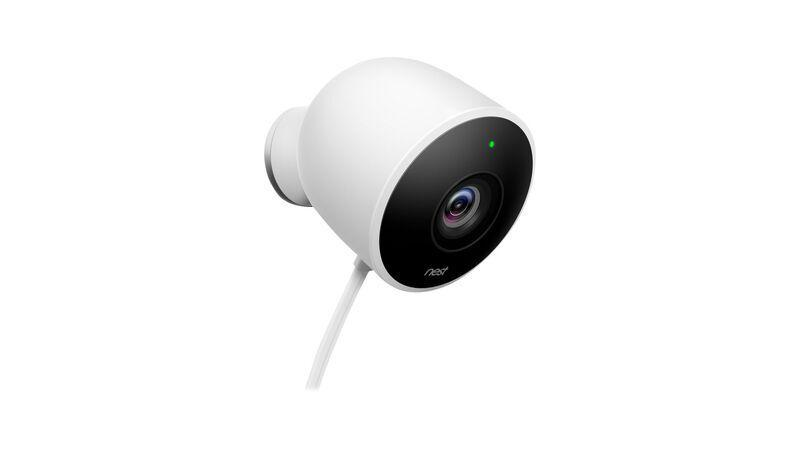nest: (255, 53, 537, 311)
